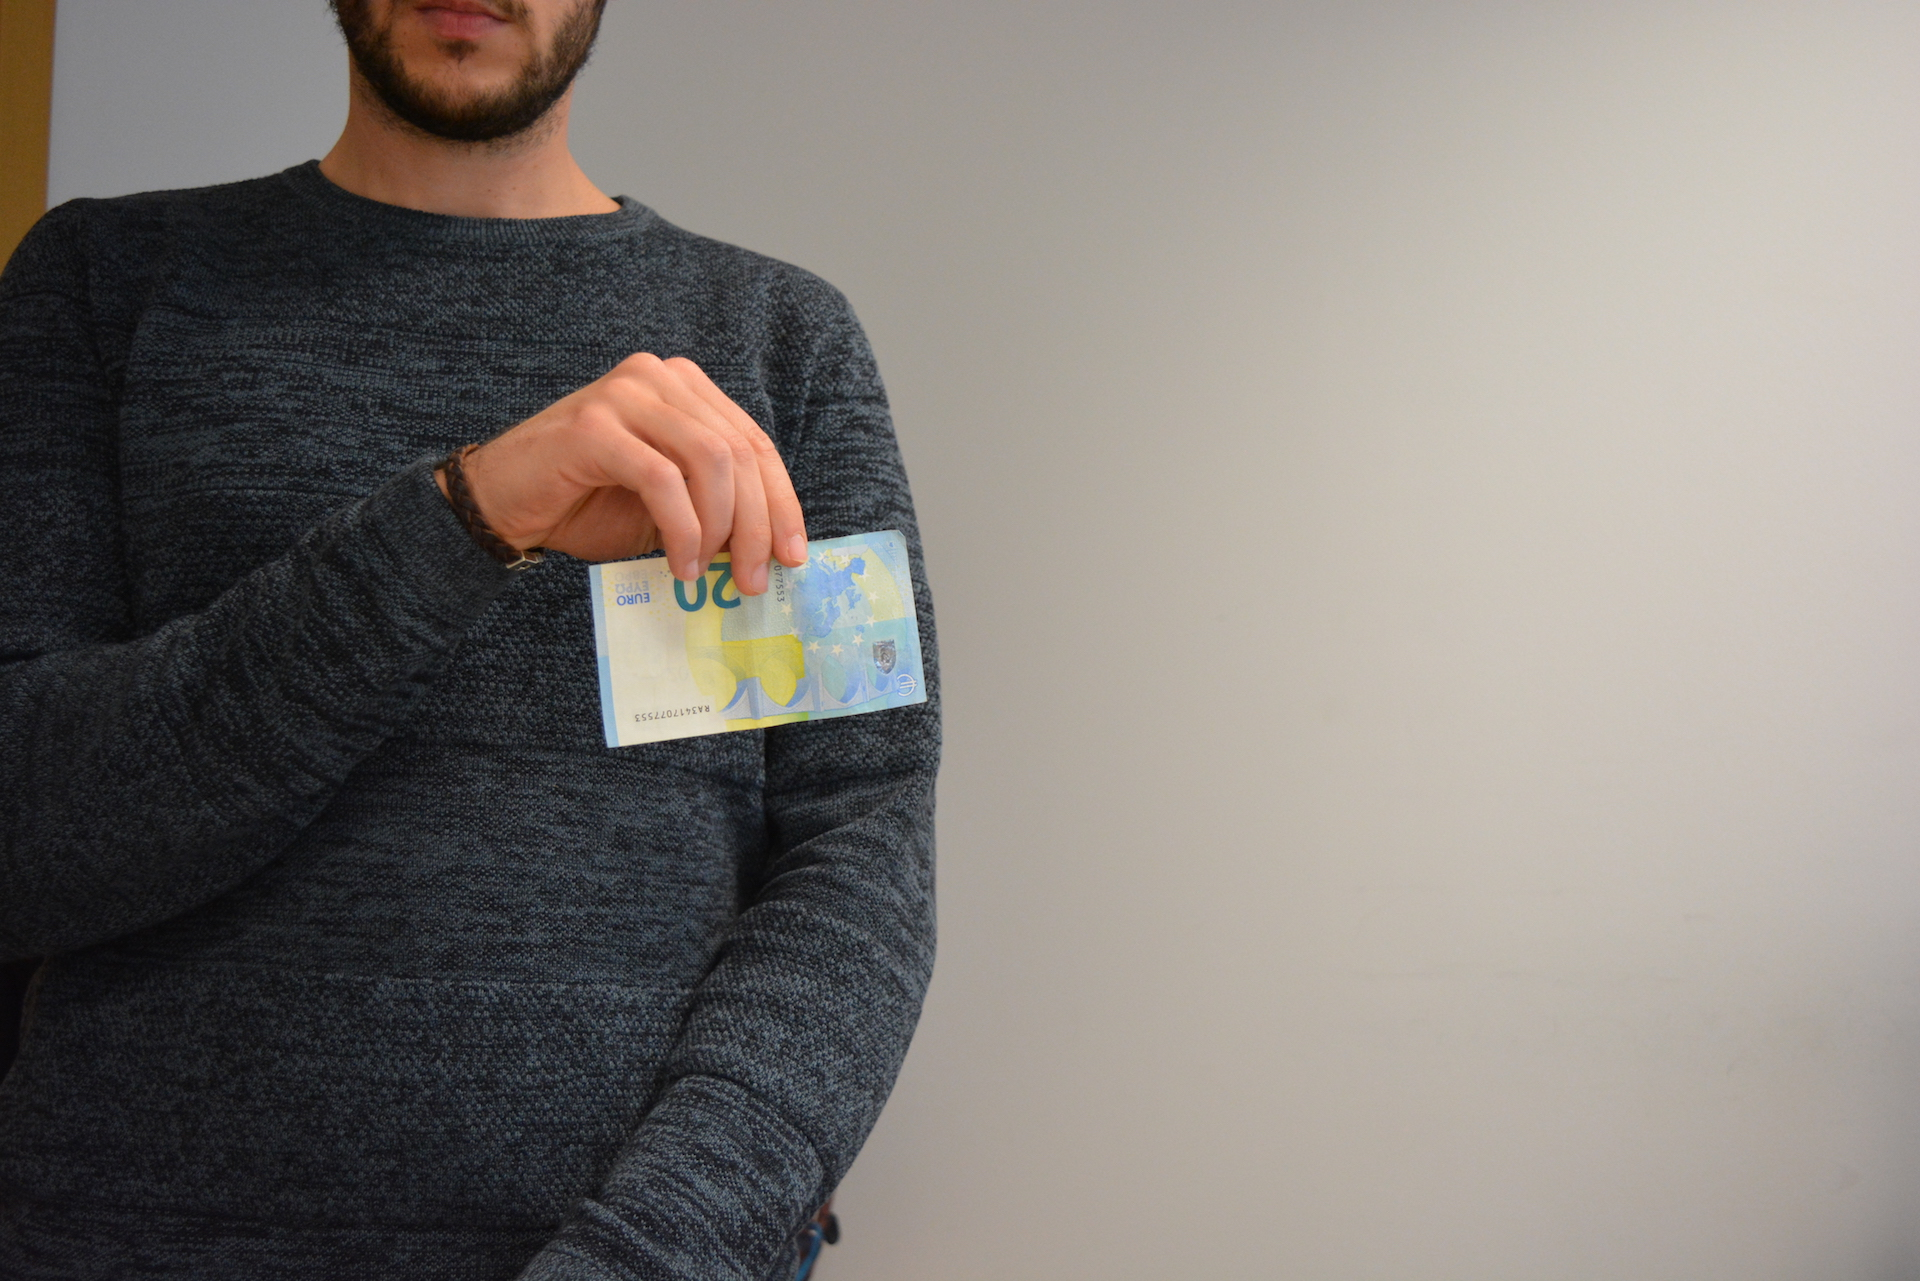billete: (588, 528, 931, 751)
